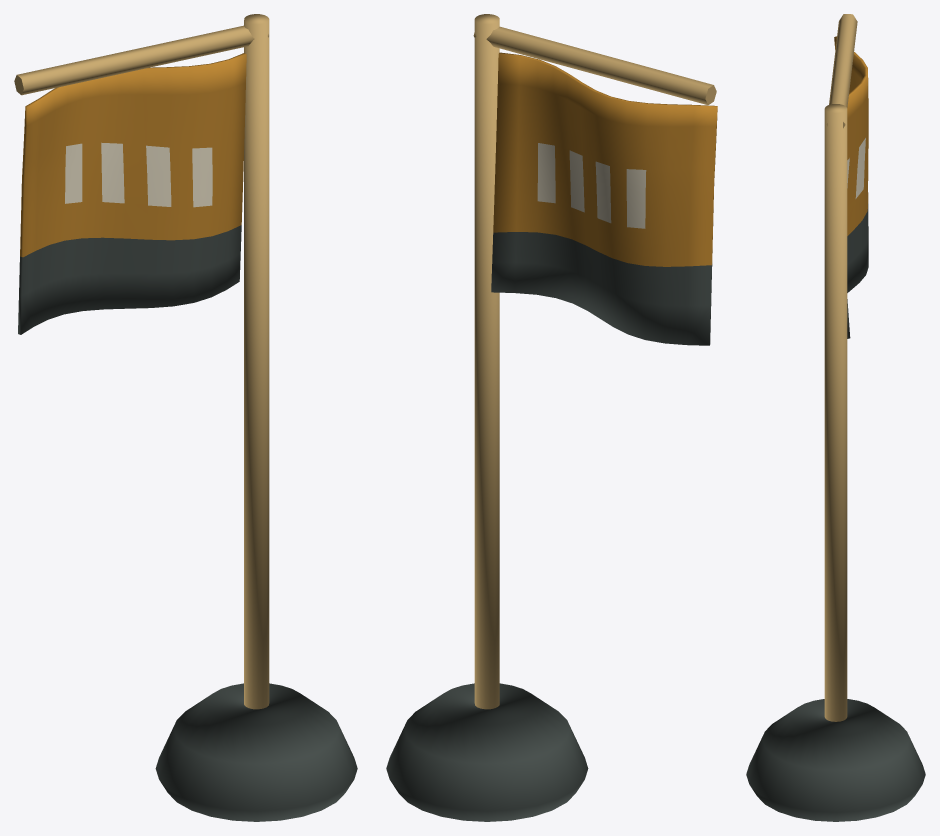
File: fanflag.amber-pier.glb
3 views of the same model, side by side, from view 1: azimuth 30°, elevation 25°; view 2: azimuth 150°, elevation 25°; view 3: azimuth 270°, elevation 25° (orthographic). The views are drawn at different scales.
Visible parts, largest first — view 1: Weighted pedestal; view 2: Weighted pedestal; view 3: Weighted pedestal.
Boxes of the visible parts, x1=… form: Weighted pedestal: x1=14, y1=14, x2=357, y2=821; Weighted pedestal: x1=386, y1=14, x2=717, y2=821; Weighted pedestal: x1=746, y1=14, x2=925, y2=821.
Bounding box in the file's own units: 0.8011 × 1.84 × 0.44.
